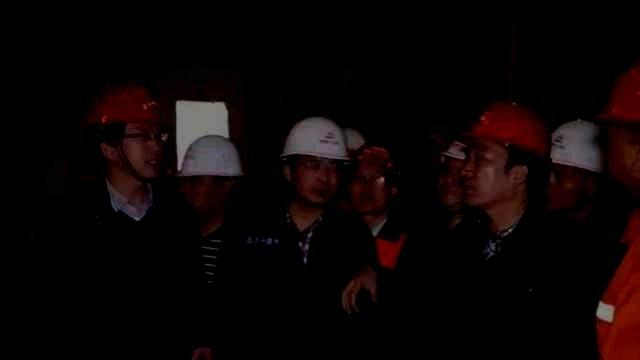helmet: (460, 99, 546, 207), (89, 78, 167, 182), (280, 117, 350, 204), (177, 135, 243, 216), (549, 118, 602, 211), (604, 64, 640, 184), (352, 146, 398, 214), (437, 140, 469, 204)
